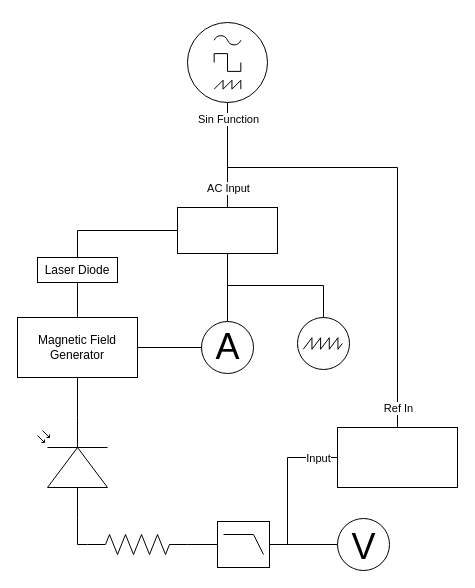
The diagram is 475 pixels wide and 588 high, and some of its shapes have lost their labels. The box of each missing label's shape, as (x1, y1, x2, y2) in pixels:
Audio Amplifier: (176, 206, 278, 254)
Lock In Amplifier: (336, 426, 458, 488)
